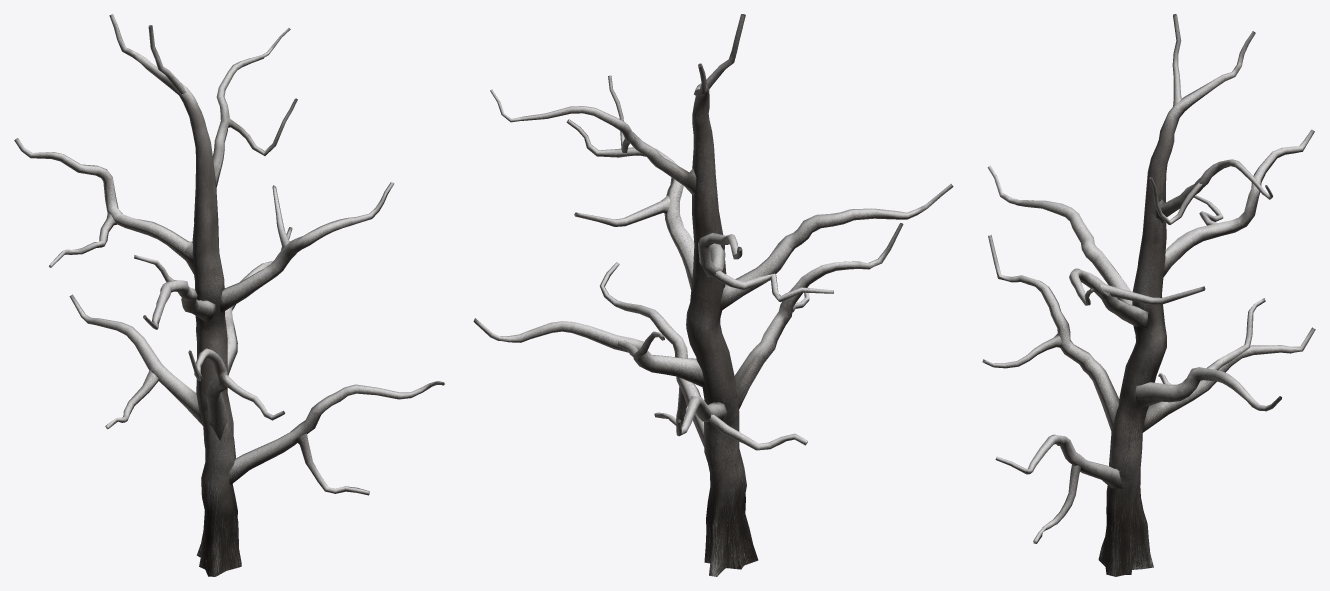
Rendered from Oak-2.obj.
3 views of the same model, side by side, from view 1: azimuth 30°, elevation 25°; view 2: azimuth 150°, elevation 25°; view 3: azimuth 270°, elevation 25° (orthographic). The views are drawn at different scales.
Visible parts, largest first — view 1: Oak_2; view 2: Oak_2; view 3: Oak_2.
Boxes of the visible parts, bbox=[...] form: Oak_2: bbox=[14, 14, 444, 576]; Oak_2: bbox=[473, 14, 953, 576]; Oak_2: bbox=[982, 14, 1315, 576].
Bounding box in the file's own units: 3.09 × 5.12 × 2.9.
